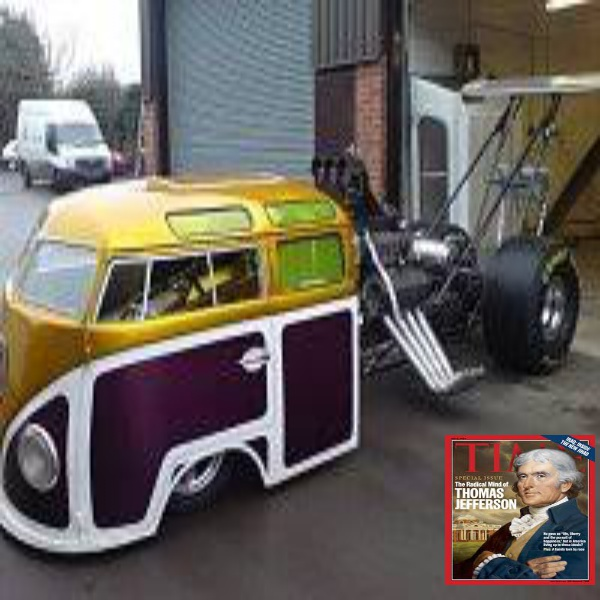time_cover: (435, 435, 594, 584)
